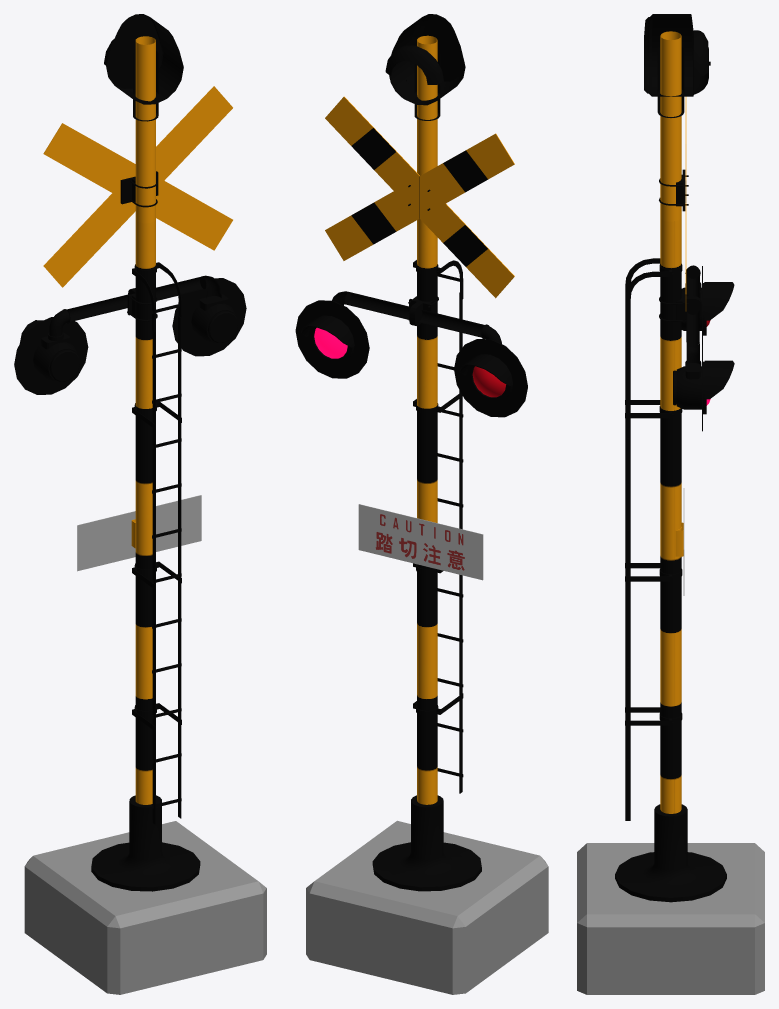
The model's file is 踏切警報器 2.fbx.
The picture shows the model from 3 angles, left to right: view 1: azimuth 30°, elevation 25°; view 2: azimuth 150°, elevation 25°; view 3: azimuth 270°, elevation 25°; orthographic projection.
Visible parts, largest first — view 1: 立方体.009, 円柱.004, 平面.002, 円柱.008, 立方体.002, 円柱.005, 円.001, 円柱.015, 立方体.007, 立方体.006, 円柱.009, 立方体.008 (+1 smaller); view 2: 立方体.009, 平面.002, 円柱.004, 立方体.002, 円柱.008, 円柱.015, 円柱.005, 円.001, 円柱.009, 立方体.006, 立方体.008; view 3: 立方体.009, 円柱.004, 円柱.008, 円.001, 立方体.007, 円柱.015, 円柱.005, 円柱.009, 円柱.010, 円柱.007, 円柱.012, 円柱.011 (+2 smaller).
Boxes of the visible parts, x1=… form: 立方体.009: x1=24, y1=821, x2=266, y2=994; 円柱.004: x1=135, y1=36, x2=155, y2=804; 平面.002: x1=43, y1=86, x2=232, y2=287; 円柱.008: x1=91, y1=795, x2=200, y2=891; 立方体.002: x1=77, y1=495, x2=201, y2=571; 円柱.005: x1=14, y1=317, x2=88, y2=394; 円.001: x1=104, y1=14, x2=183, y2=104; 円柱.015: x1=172, y1=278, x2=246, y2=356; 立方体.007: x1=178, y1=316, x2=181, y2=818; 立方体.006: x1=152, y1=324, x2=155, y2=824; 円柱.009: x1=62, y1=276, x2=206, y2=323; 立方体.008: x1=152, y1=304, x2=181, y2=808; 立方体.009: x1=306, y1=820, x2=548, y2=994; 平面.002: x1=325, y1=96, x2=514, y2=298; 円柱.004: x1=417, y1=35, x2=437, y2=804; 立方体.002: x1=358, y1=504, x2=483, y2=580; 円柱.008: x1=372, y1=795, x2=481, y2=891; 円柱.015: x1=295, y1=300, x2=369, y2=378; 円柱.005: x1=454, y1=339, x2=527, y2=417; 円.001: x1=385, y1=14, x2=465, y2=105; 円柱.009: x1=345, y1=292, x2=488, y2=338; 立方体.006: x1=459, y1=292, x2=462, y2=793; 立方体.008: x1=437, y1=273, x2=463, y2=777; 立方体.009: x1=577, y1=843, x2=764, y2=994; 円柱.004: x1=660, y1=31, x2=681, y2=813; 円柱.008: x1=615, y1=804, x2=726, y2=902; 円.001: x1=644, y1=14, x2=710, y2=96; 立方体.007: x1=625, y1=319, x2=630, y2=820; 円柱.015: x1=673, y1=344, x2=734, y2=431; 円柱.005: x1=681, y1=266, x2=734, y2=344; 円柱.009: x1=685, y1=266, x2=700, y2=347; 円柱.010: x1=625, y1=258, x2=682, y2=319; 円柱.007: x1=625, y1=707, x2=682, y2=725; 円柱.012: x1=625, y1=563, x2=682, y2=581; 円柱.011: x1=625, y1=400, x2=682, y2=418.
Bounding box in the file's own units: 152 × 577 × 104.
8 materials, 2 textured.
